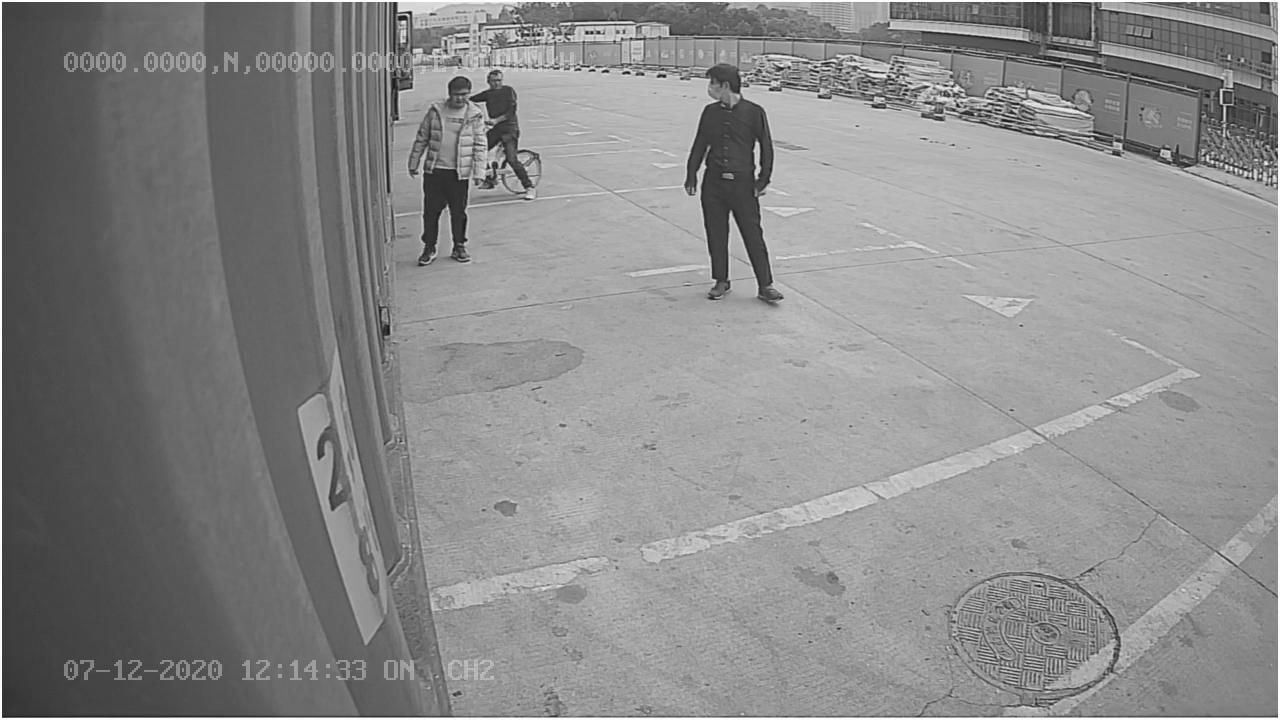person: (685, 62, 790, 306)
